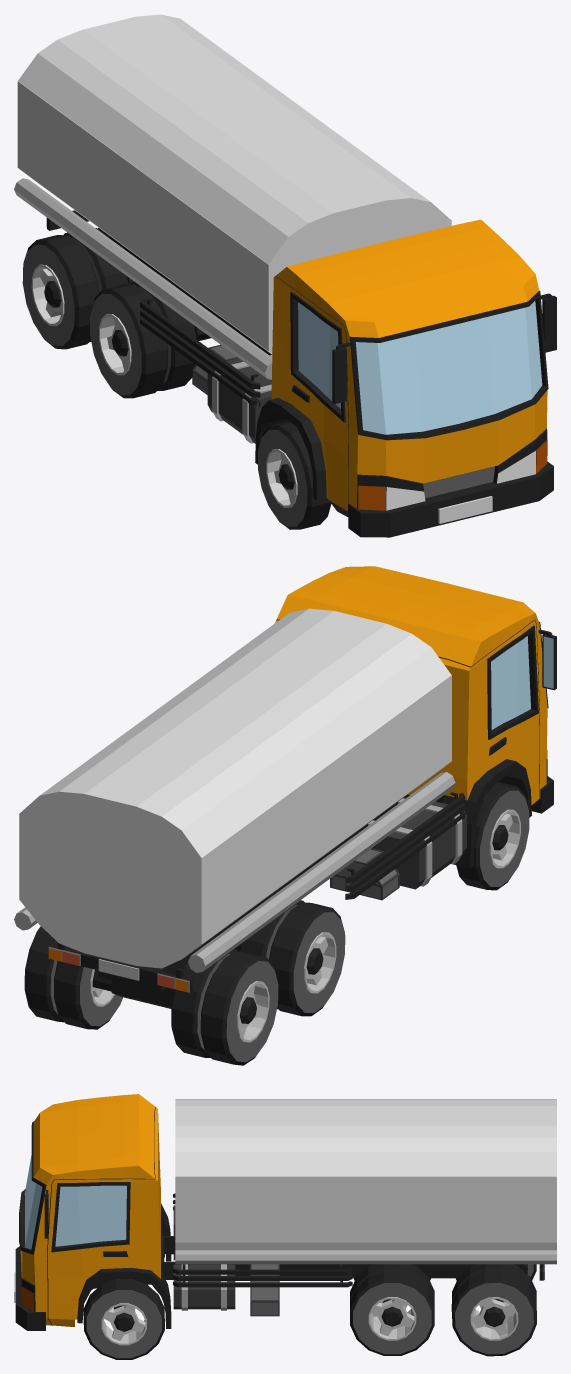
Rendered from Water_Truck.fbx.
The picture shows the model from 3 angles, top to bottom: view 1: azimuth 30°, elevation 25°; view 2: azimuth 150°, elevation 25°; view 3: azimuth 270°, elevation 25°; orthographic projection. The views are drawn at different scales.
Parts seen in each view (by area): view 1: DumpTruck; view 2: DumpTruck; view 3: DumpTruck.
Part boxes in pixels (x1,y1,x2,y2): DumpTruck: [14, 14, 556, 537]; DumpTruck: [14, 566, 556, 1065]; DumpTruck: [14, 1094, 556, 1359].
Bounding box in the file's own units: 284 × 324 × 783.
